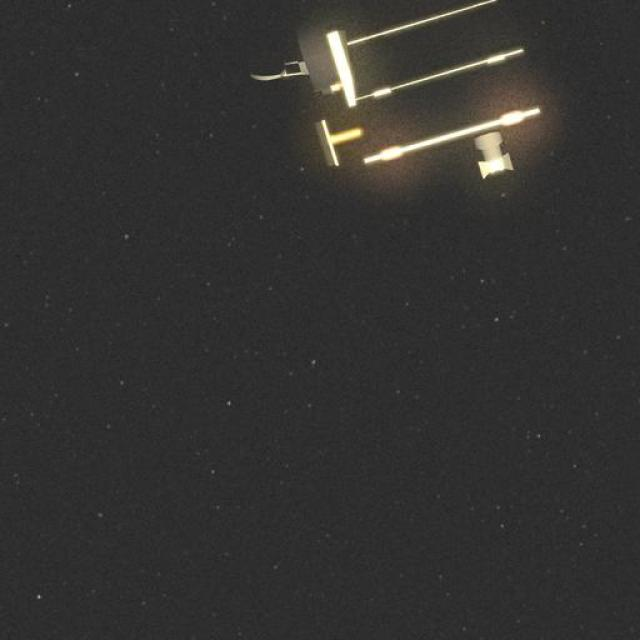earth_observation_sat_1: (228, 0, 562, 210)
